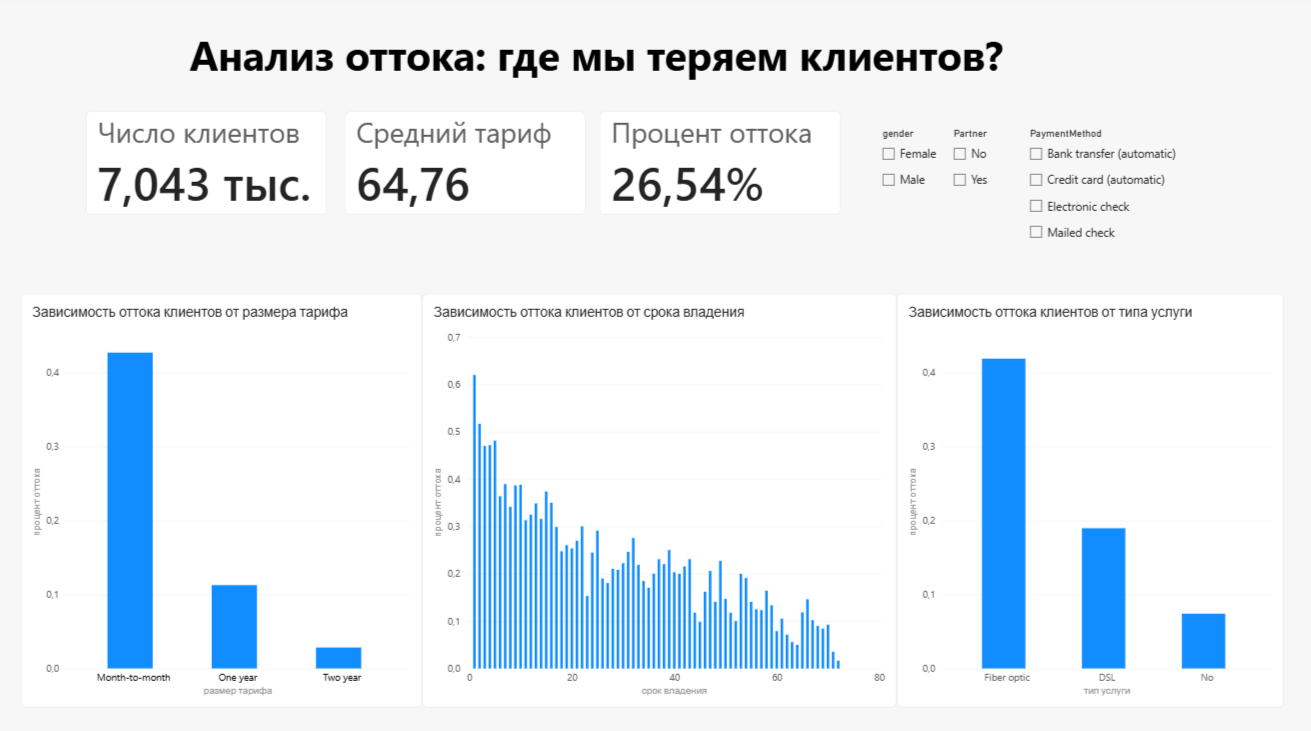

What the dashboard file says about the page in this screenshot:
{"tool":"powerbi","page":{"name":"Страница 1","canvas":[1920,1080],"ordinal":0},"visuals":[{"type":"cardVisual","fields":{"Data":["Avg(clean.MonthlyCharges)"]},"box":[504.3,168.8,349.9,150.3],"z":0},{"type":"cardVisual","fields":{"Data":["clean.Churn Rate"]},"box":[874.8,168.8,349.9,150.3],"z":1000},{"type":"cardVisual","fields":{"Data":["CountNonNull(clean.customerID)"]},"box":[129.7,168.8,349.9,150.3],"z":2000},{"type":"columnChart","title":"Зависимость оттока клиентов от размера тарифа","fields":{"Category":["clean.Contract"],"Y":["clean.Churn Rate"]},"box":[37,432.2,580.4,599],"z":3000},{"type":"columnChart","title":"Зависимость оттока клиентов от срока владения","fields":{"Category":["clean.tenure"],"Y":["clean.Churn Rate"]},"box":[617.5,432.2,687.5,599],"z":4000},{"type":"columnChart","title":"Зависимость оттока клиентов от типа услуги","fields":{"Category":["clean.InternetService"],"Y":["clean.Churn Rate"]},"box":[1305,432.2,559.9,599],"z":5000},{"type":"slicer","fields":{"Values":["clean.gender"]},"box":[1276.2,191.4,280,150],"z":6000},{"type":"slicer","fields":{"Values":["clean.Partner"]},"box":[1379.1,191.4,140,115.3],"z":7000},{"type":"slicer","fields":{"Values":["clean.PaymentMethod"]},"box":[1490.2,191.4,290.2,214.1],"z":8000},{"type":"textbox","box":[279.9,47.3,1356.4,179.1],"z":9000}]}

Visuals, with their boxes in screenshot pixels (x1, y1, x2, y2), scaled from the page's 1920x1080 canvas onto the 1311x731 screenshot:
cardVisual - Avg(clean.MonthlyCharges): [left=344, top=114, right=583, bottom=216]
cardVisual - clean.Churn Rate: [left=597, top=114, right=836, bottom=216]
cardVisual - CountNonNull(clean.customerID): [left=89, top=114, right=327, bottom=216]
"Зависимость оттока клиентов от размера тарифа" columnChart: [left=25, top=293, right=422, bottom=698]
"Зависимость оттока клиентов от срока владения" columnChart: [left=422, top=293, right=891, bottom=698]
"Зависимость оттока клиентов от типа услуги" columnChart: [left=891, top=293, right=1273, bottom=698]
slicer - clean.gender: [left=871, top=130, right=1063, bottom=231]
slicer - clean.Partner: [left=942, top=130, right=1037, bottom=208]
slicer - clean.PaymentMethod: [left=1018, top=130, right=1216, bottom=274]
textbox: [left=191, top=32, right=1117, bottom=153]
